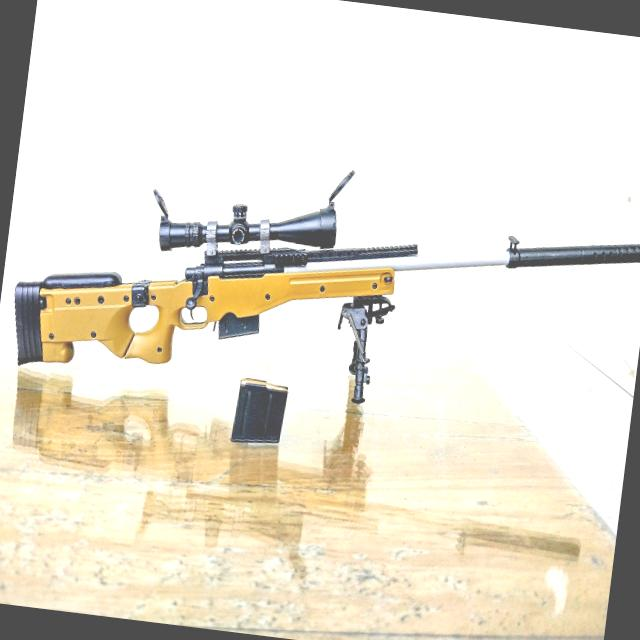rifle: (0, 126, 640, 491)
